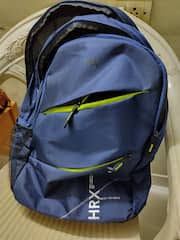backpack: (7, 0, 169, 223)
